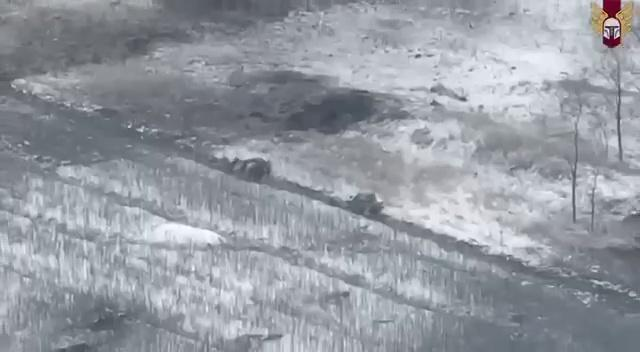person: (330, 194, 386, 216), (230, 158, 272, 185)
